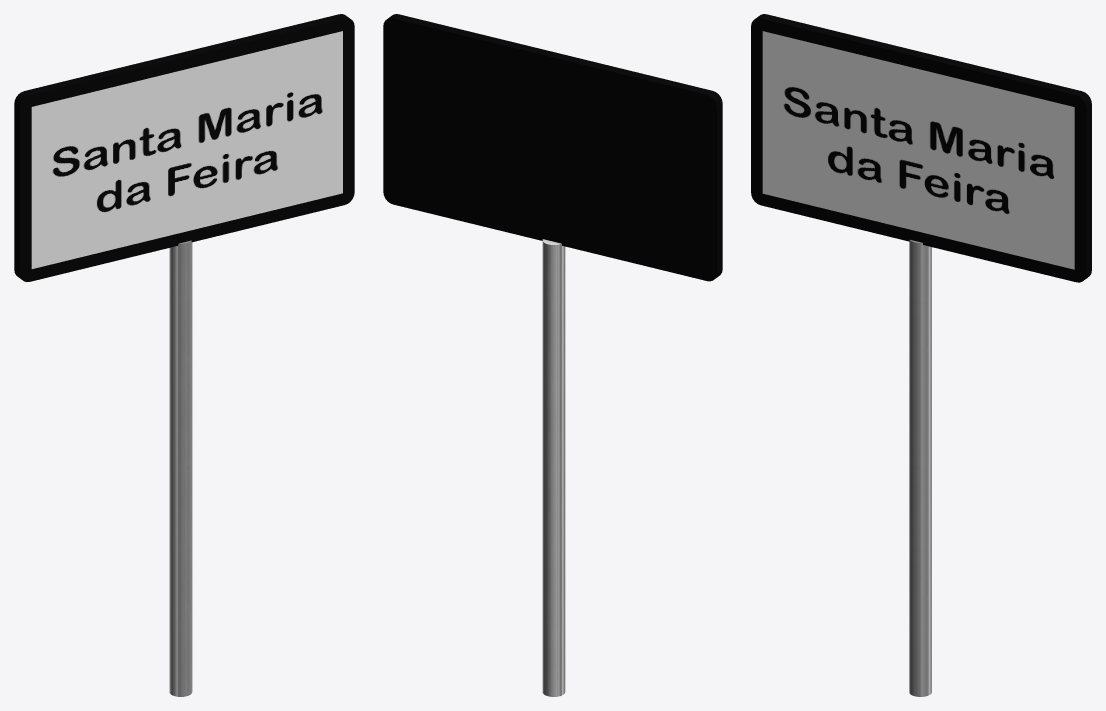
The model's file is Santa Maria da Feira.gltf.
3 views of the same model, side by side, from view 1: azimuth 30°, elevation 25°; view 2: azimuth 150°, elevation 25°; view 3: azimuth 330°, elevation 25° (orthographic).
Visible parts, largest first — view 1: root; view 2: root; view 3: root.
Boxes of the visible parts, <box> form: root: <box>14,14,354,696</box>; root: <box>383,14,722,696</box>; root: <box>751,14,1091,696</box>.
Bounding box in the file's own units: 0.4318 × 0.7865 × 0.0254.
Materials: 4 (2 with a texture image).
